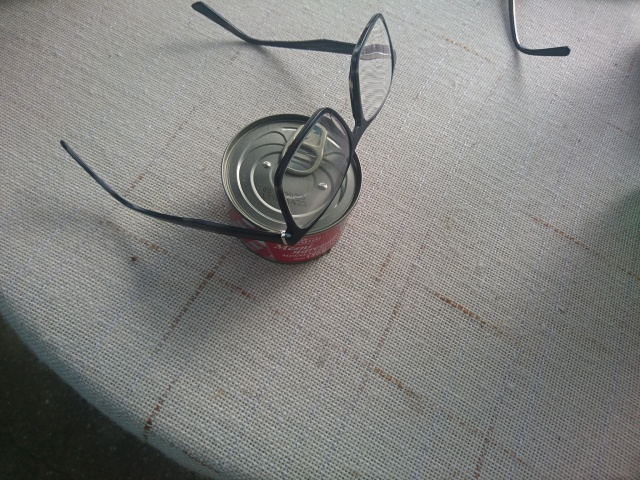Podravka Luncheon Meat 150g: (217, 110, 366, 269)
